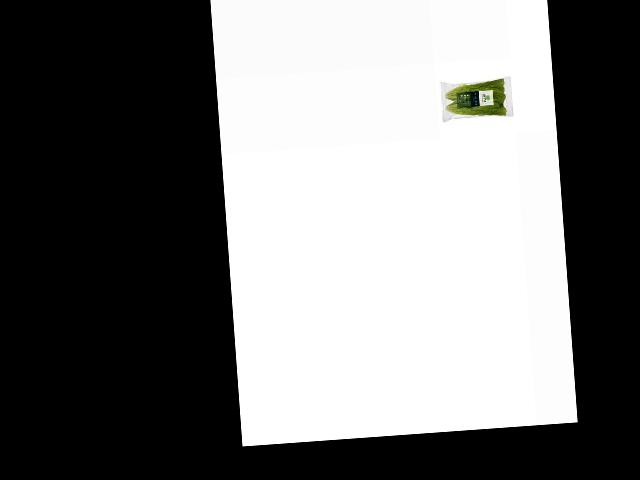lettuce: (443, 78, 509, 124)
